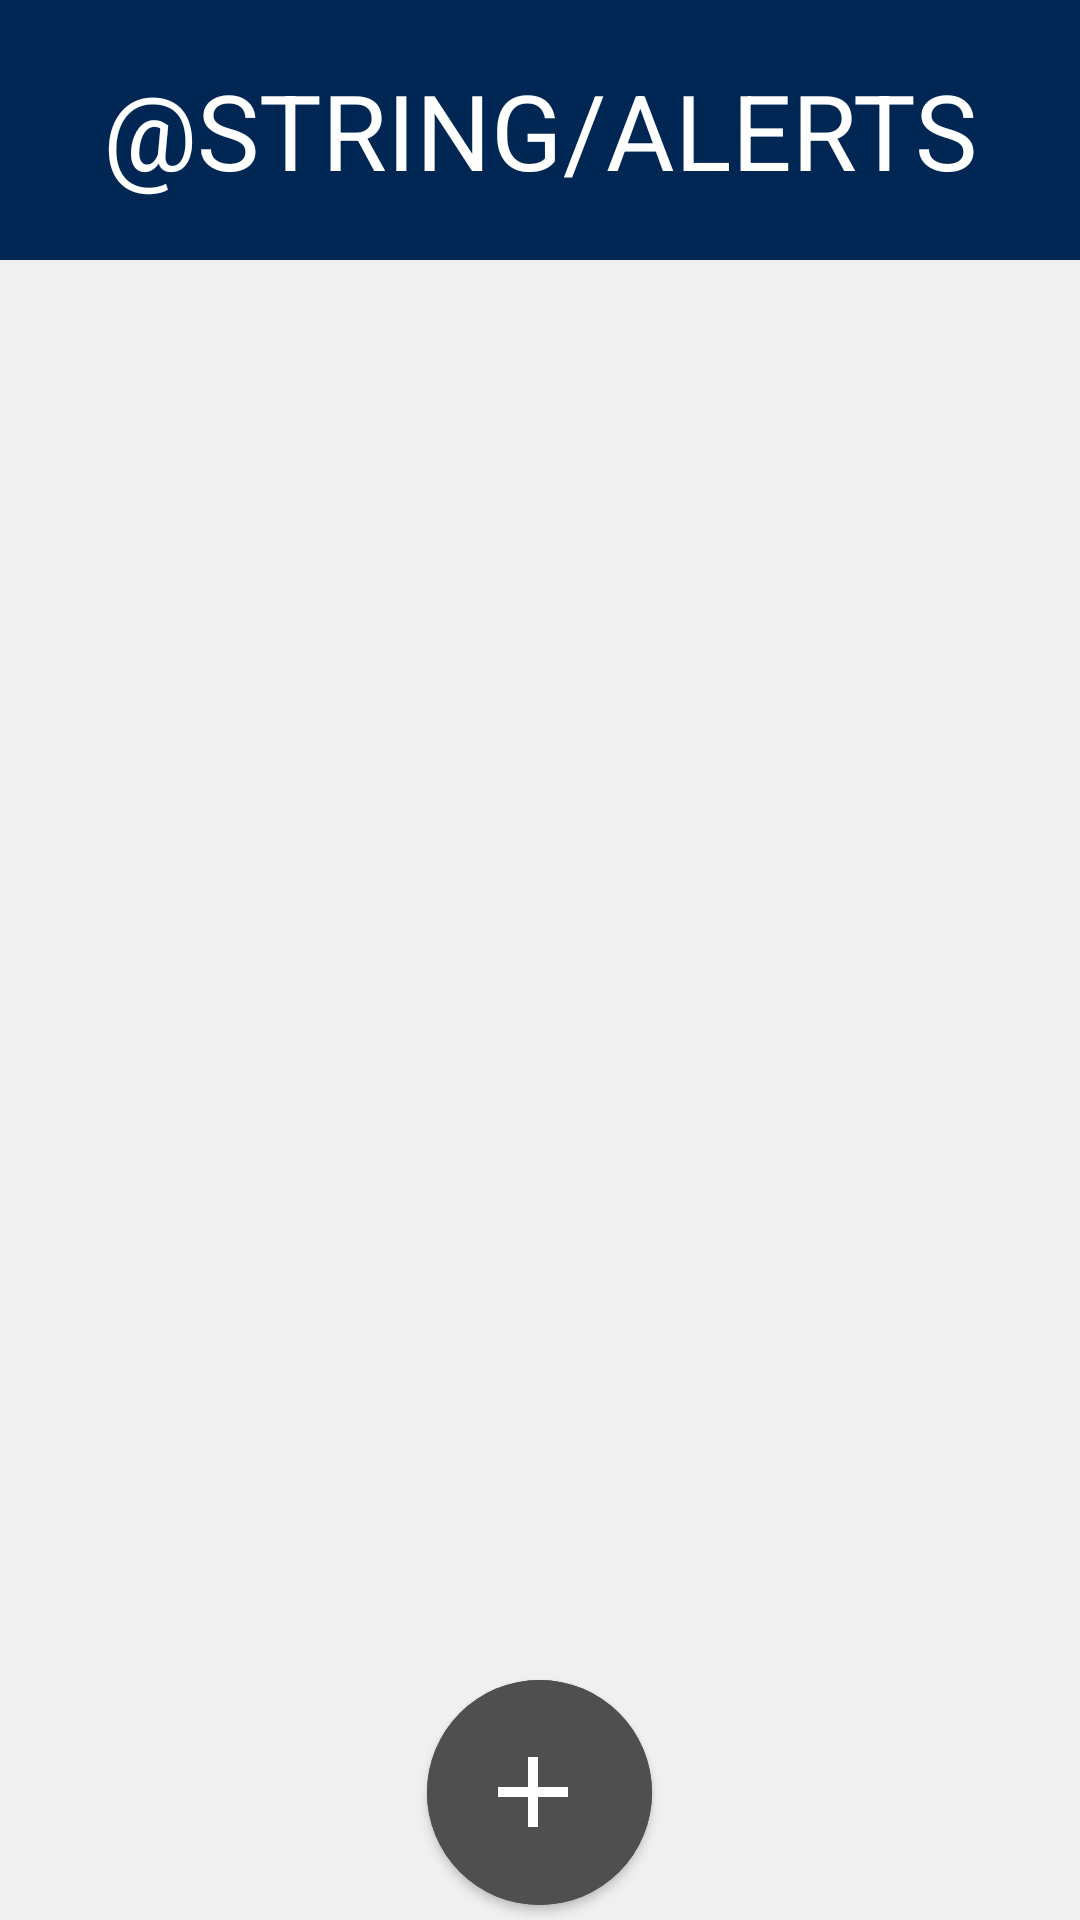

Named icons in this screenshot (1080×1920) and their centers, [x,y]:
add: [539,1792]
